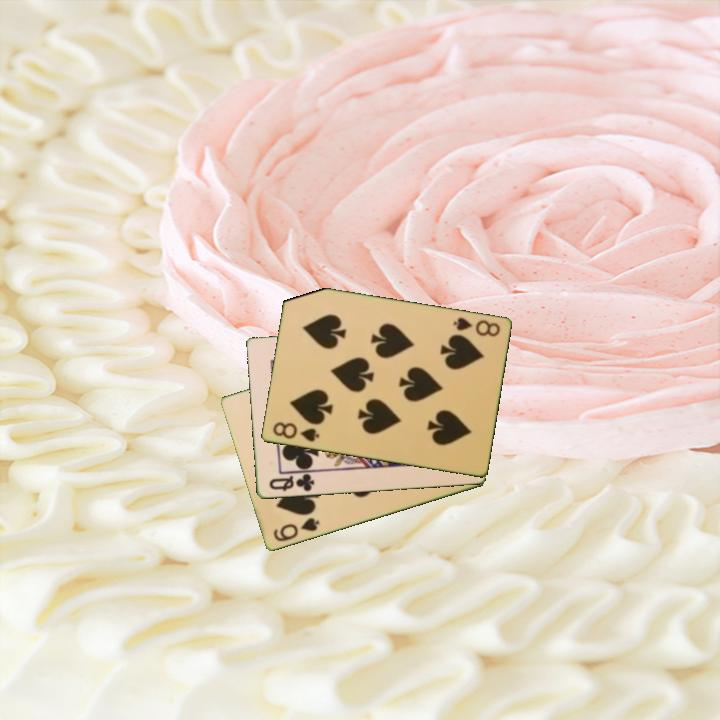6s: (269, 514, 322, 545)
8s: (449, 314, 503, 340), (269, 419, 322, 445)
Qc: (265, 470, 317, 495)
